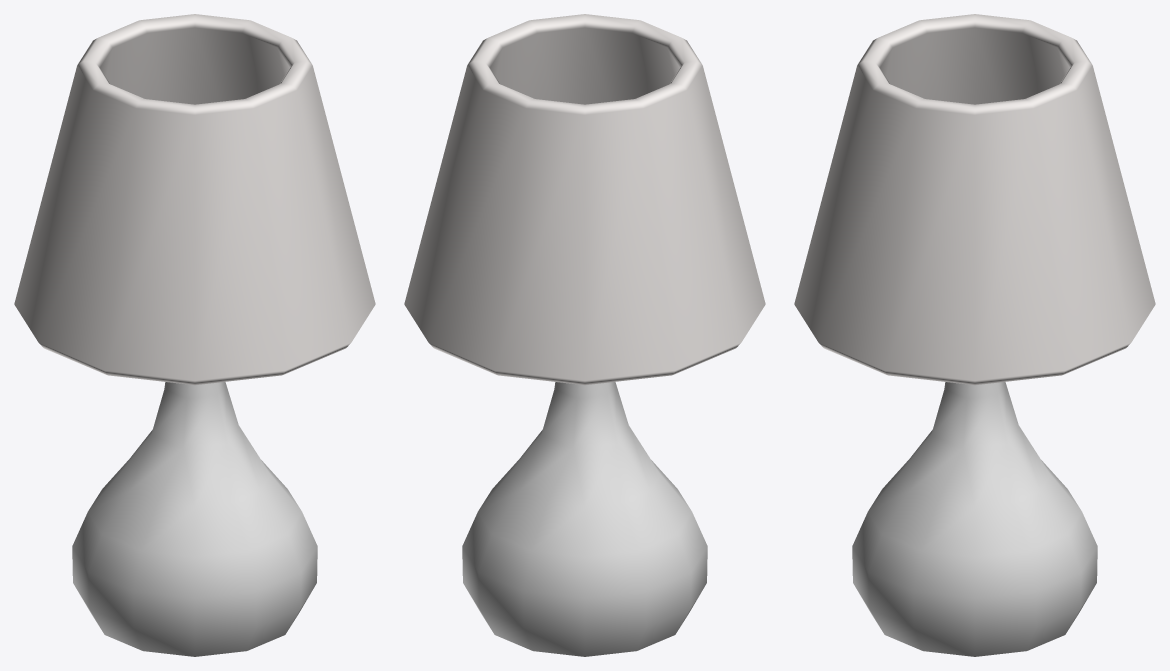
Rendered from lamp_004.fbx.
3 views of the same model, side by side, from view 1: azimuth 30°, elevation 25°; view 2: azimuth 150°, elevation 25°; view 3: azimuth 270°, elevation 25° (orthographic).
Visible parts, largest first — view 1: lamp_004; view 2: lamp_004; view 3: lamp_004.
Boxes of the visible parts, x1,y1,x2,y2 form: lamp_004: (14, 14, 375, 656); lamp_004: (404, 14, 765, 656); lamp_004: (794, 14, 1155, 656).
Size of the model in its own units: 48.11 by 48.11 by 81.03.
